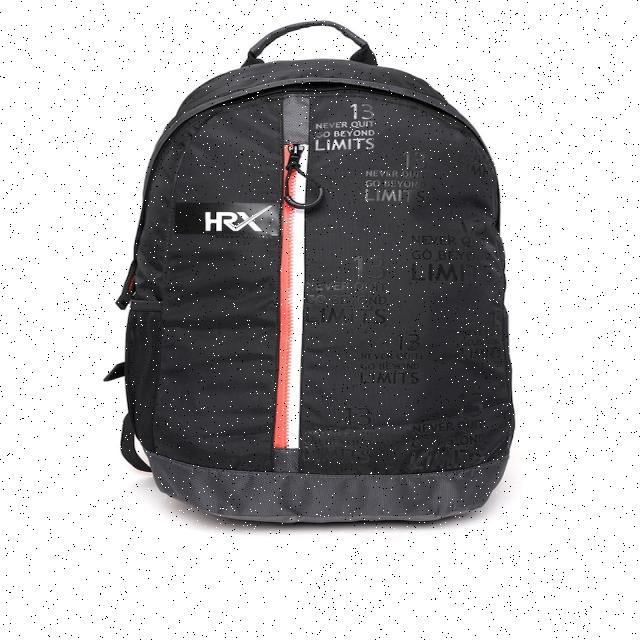backpack: (104, 19, 516, 524)
